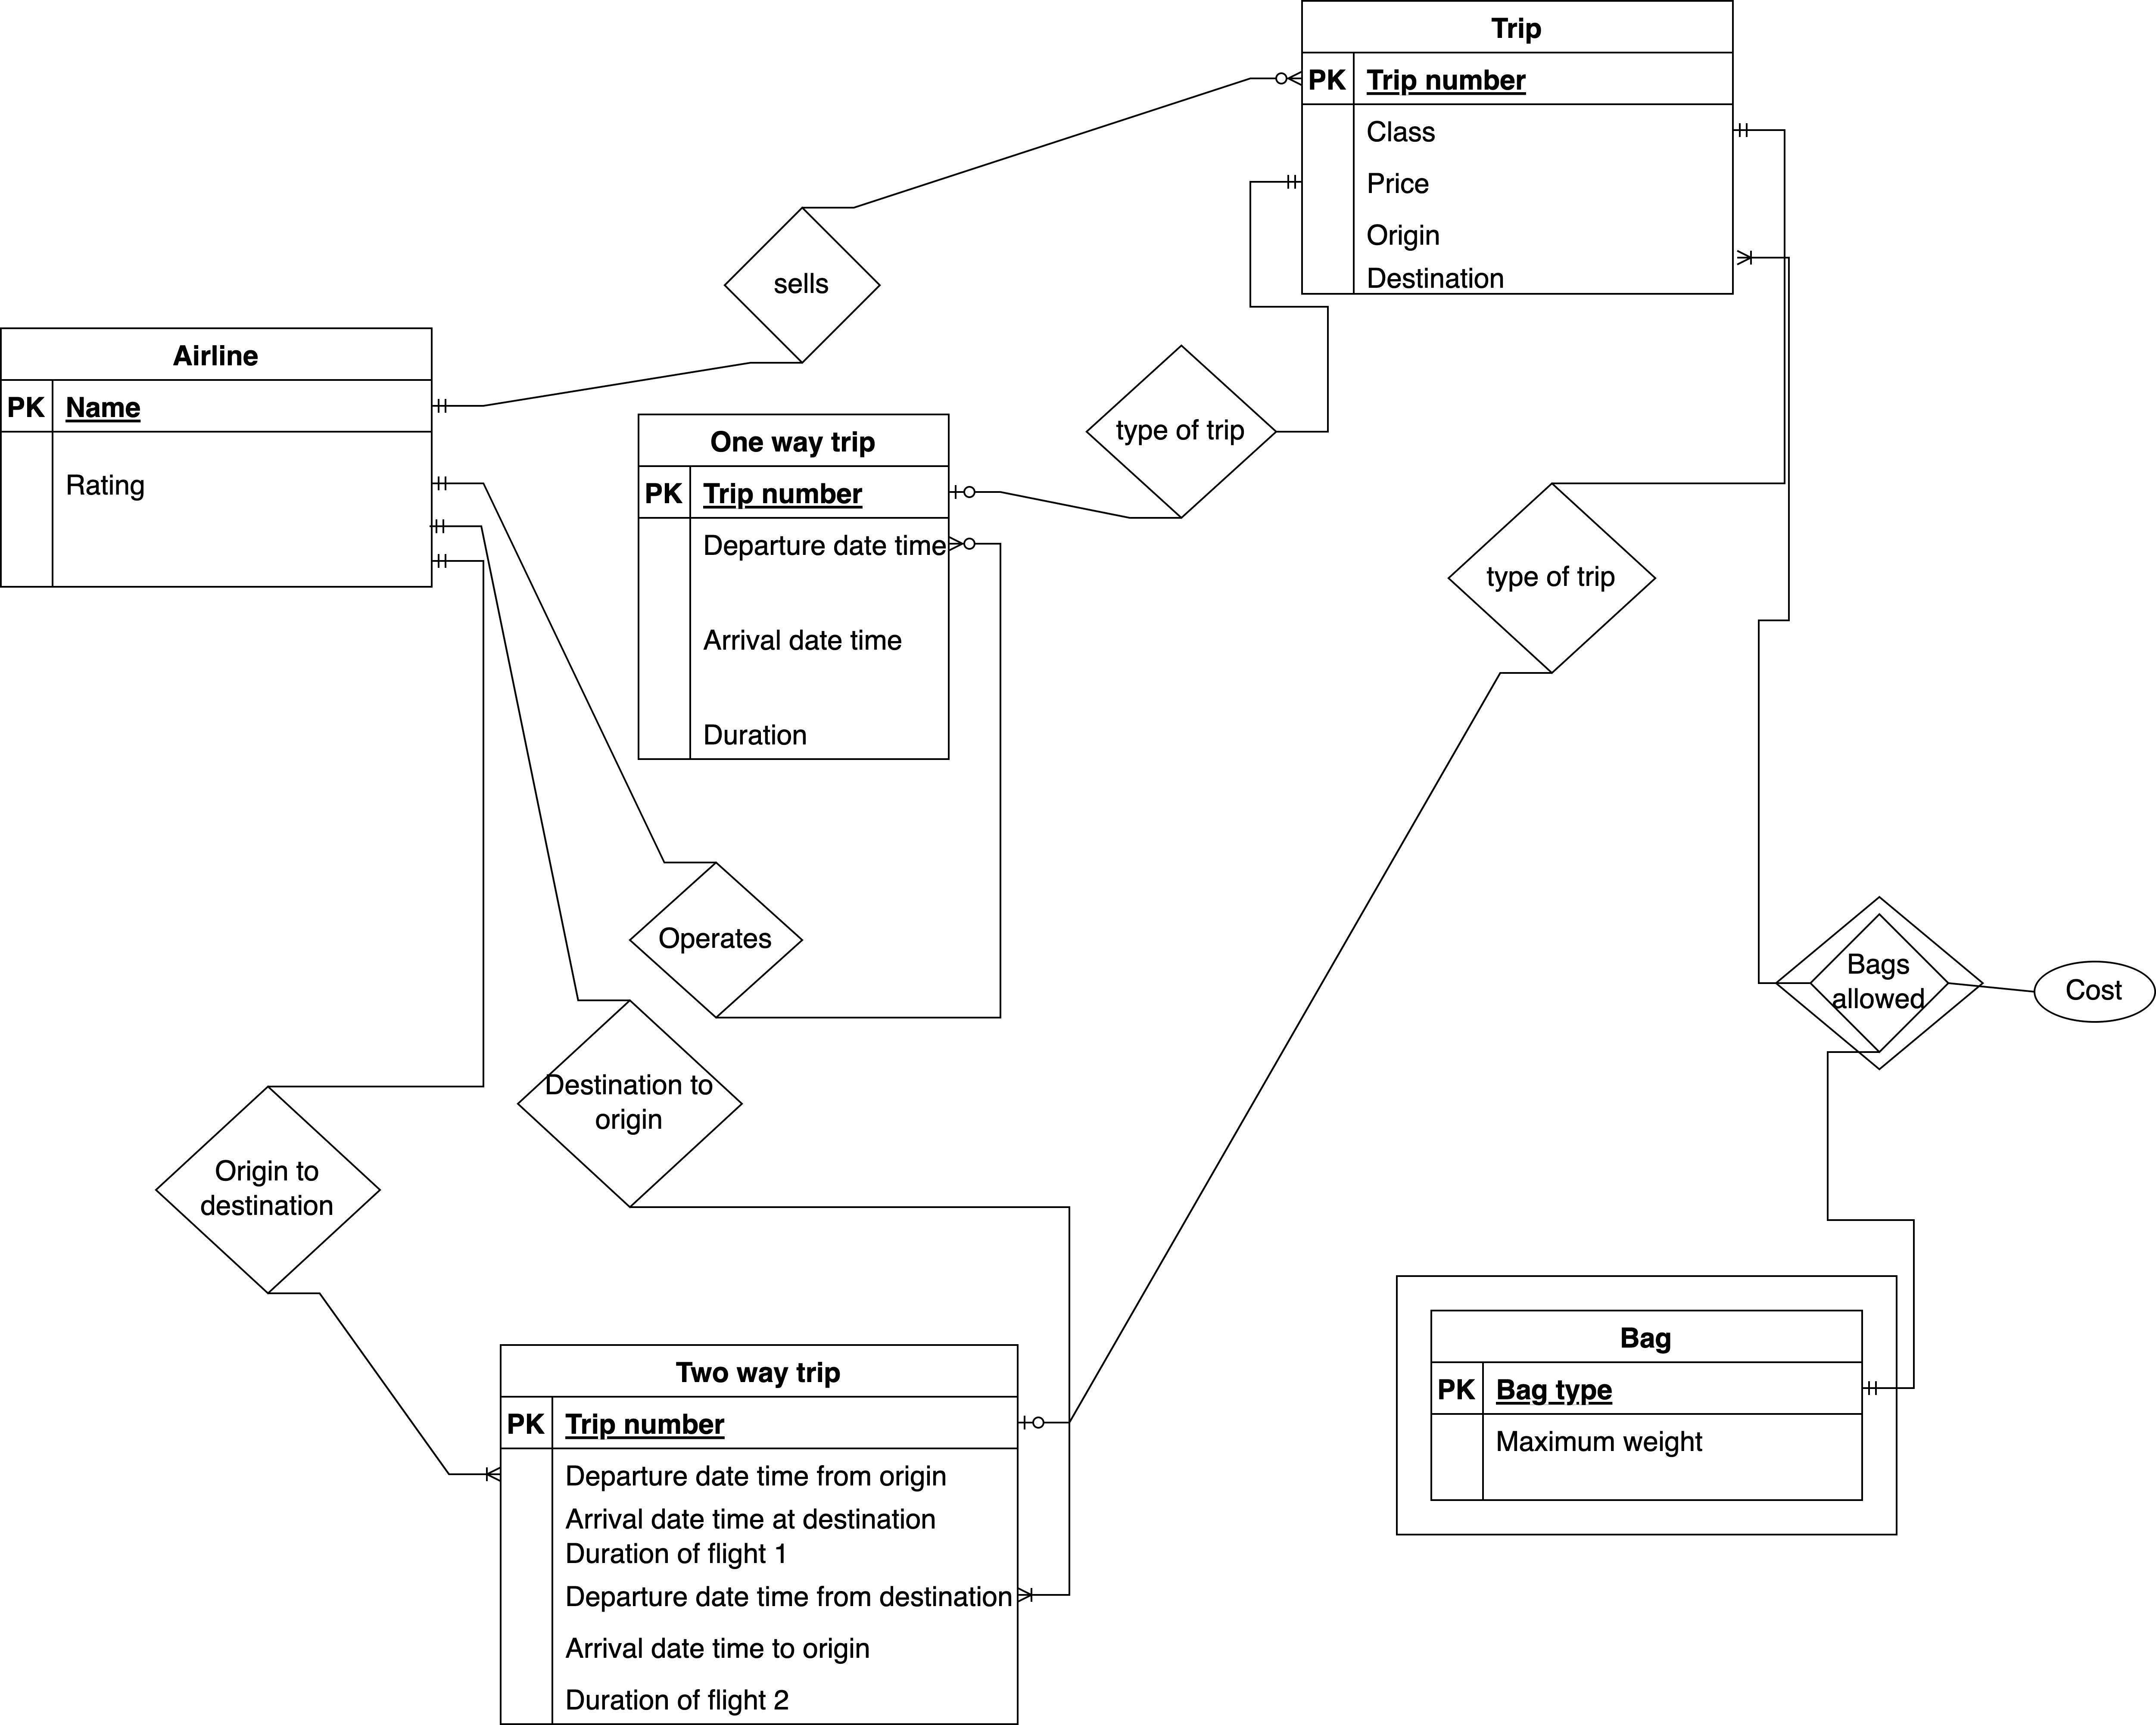attribute: (2033, 961, 2156, 1021)
entity: (496, 1340, 1017, 1725), (1297, 0, 1737, 297), (0, 322, 435, 593), (637, 410, 956, 762)
relationship: (153, 1083, 380, 1288), (521, 1003, 739, 1200), (1447, 484, 1660, 672), (1088, 343, 1276, 514), (627, 862, 806, 1019), (722, 204, 884, 364)
weakentity: (1392, 1271, 1901, 1540)
weakrelationship: (1772, 894, 1984, 1074)
